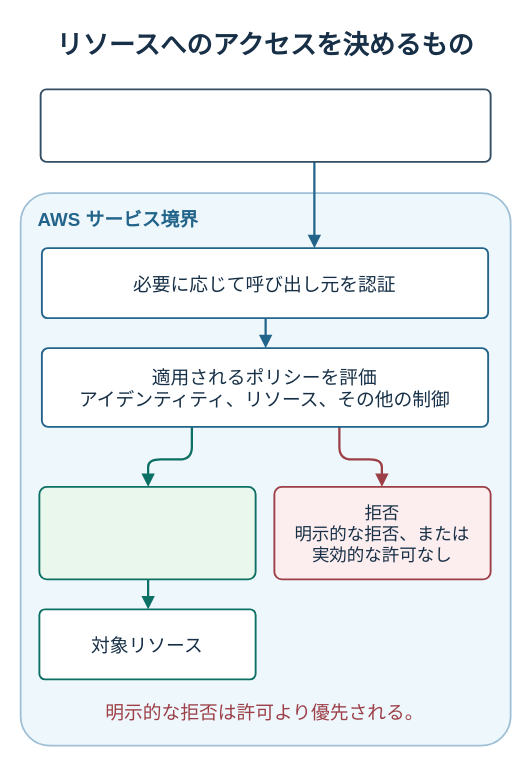
This 531x766 diagram has some shape labels left out. Here are the shapes that lost their labels. From the top down, the centre of each, then its label:
At point (265, 125): "AWS プリンシパルからのリクエスト アクション、リソース、条件".
At point (147, 532): "実効的な許可 明示的な拒否なし".
